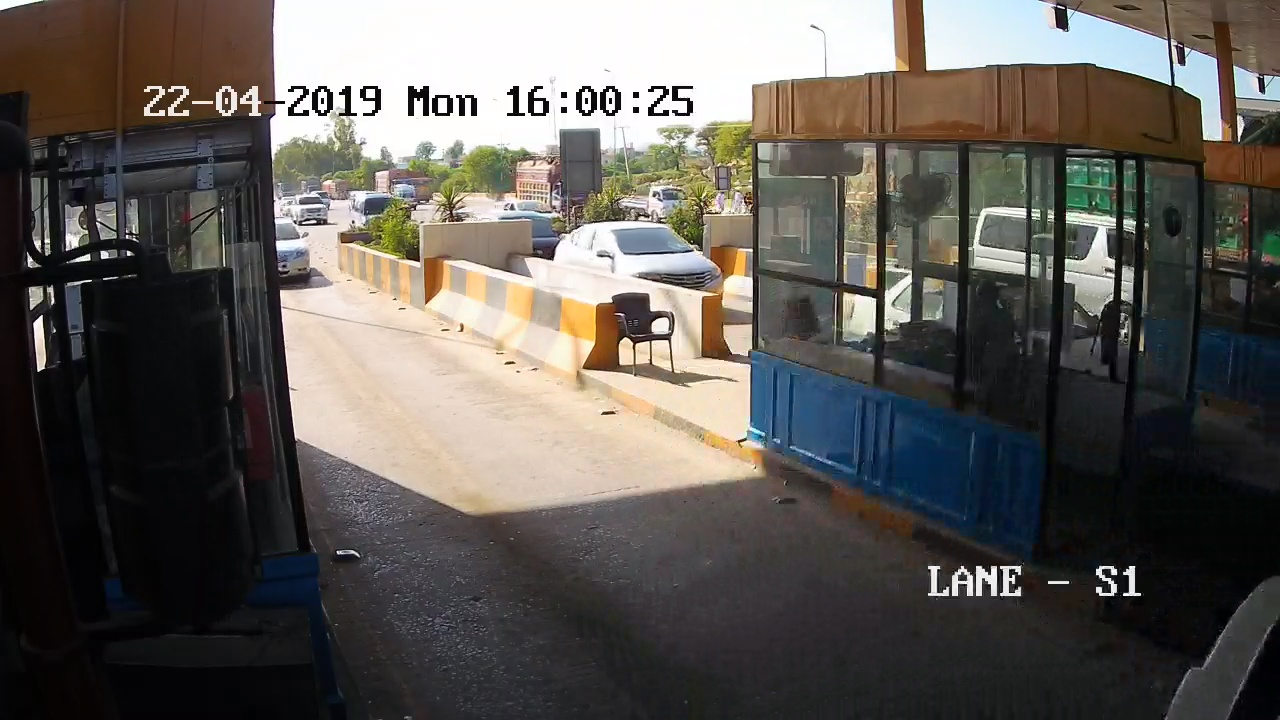car: (275, 222, 308, 276)
